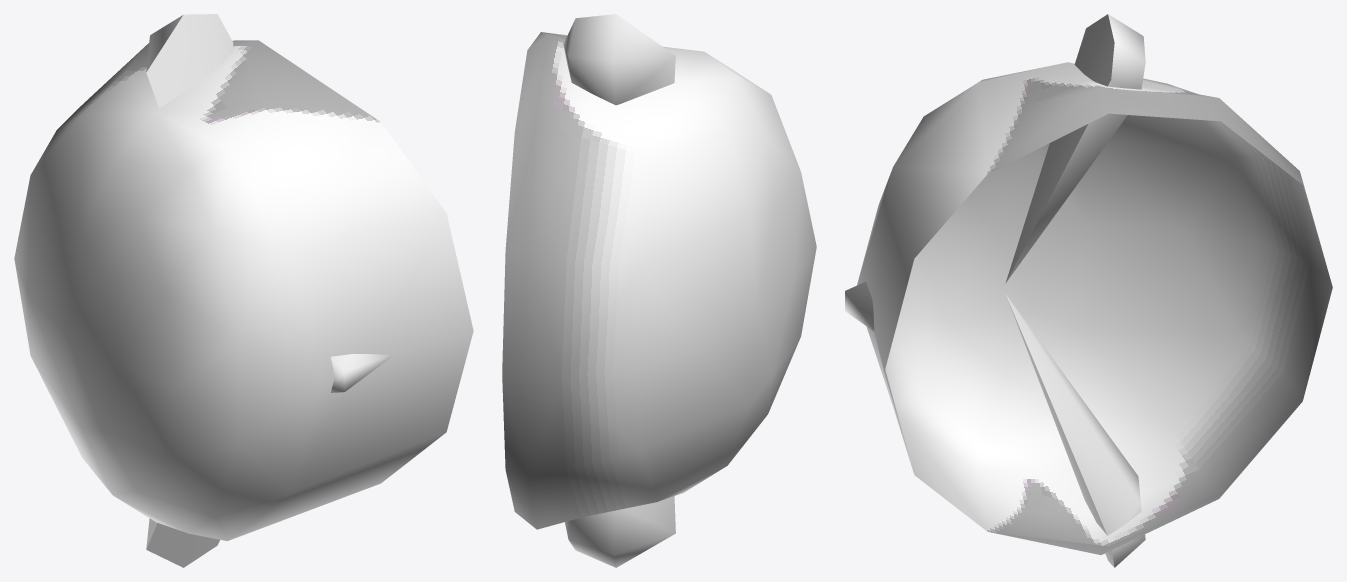
Rendered from boy10b.dae.
The picture shows the model from 3 angles, left to right: view 1: azimuth 30°, elevation 25°; view 2: azimuth 150°, elevation 25°; view 3: azimuth 270°, elevation 25°; orthographic projection.
Visible parts, largest first — view 1: boy10b; view 2: boy10b; view 3: boy10b.
Part boxes in pixels (x1,y1,x2,y2): boy10b: (14, 14, 473, 567); boy10b: (502, 14, 816, 567); boy10b: (845, 14, 1332, 567).
Bounding box in the file's own units: 15.5 × 26.71 × 21.59.
Materials: 3 (1 with a texture image).
